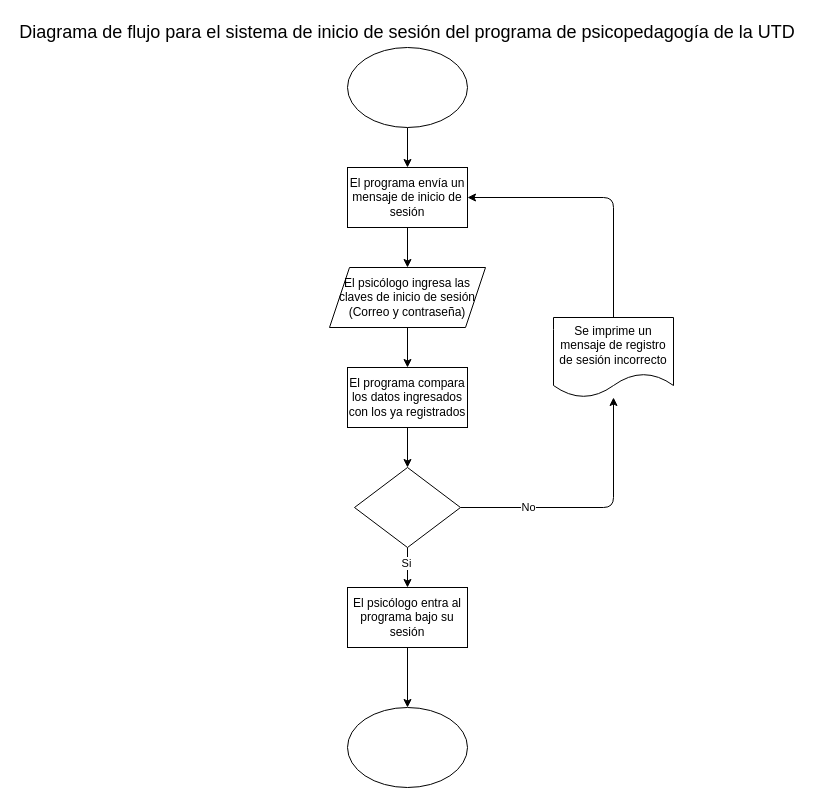
The diagram is 814 pixels wide and 805 high, and some of its shapes have lost their labels. The box of each missing label's shape, as (x1, y1, x2, y2) in pixels:
Fin: (346, 706, 468, 788)
Inicio: (346, 46, 468, 128)
¿Los datos son correctos?: (354, 466, 460, 548)
